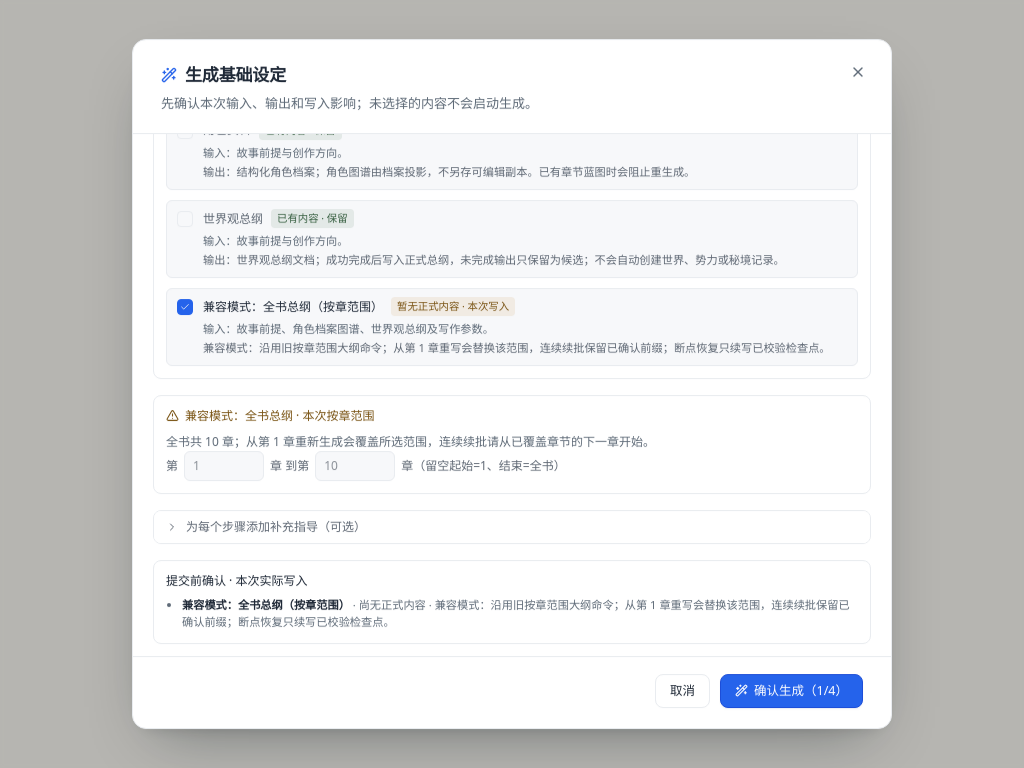
Test: workflow launch dialogs › rejects non-empty invalid synopsis range value -1
(page scrolled)
In the number field named "本次生成范围的起始章": (224, 466) [184,451,264,481], type "-1"
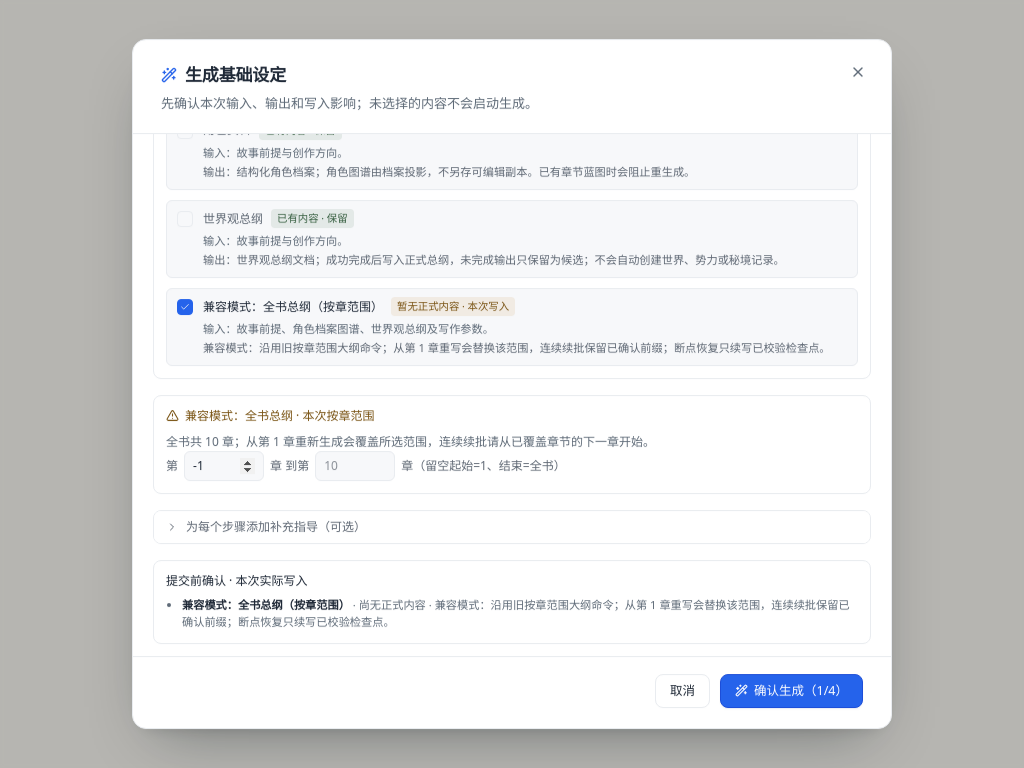
Click the button "确认生成（1/4）": (792, 691) [720,674,863,708]
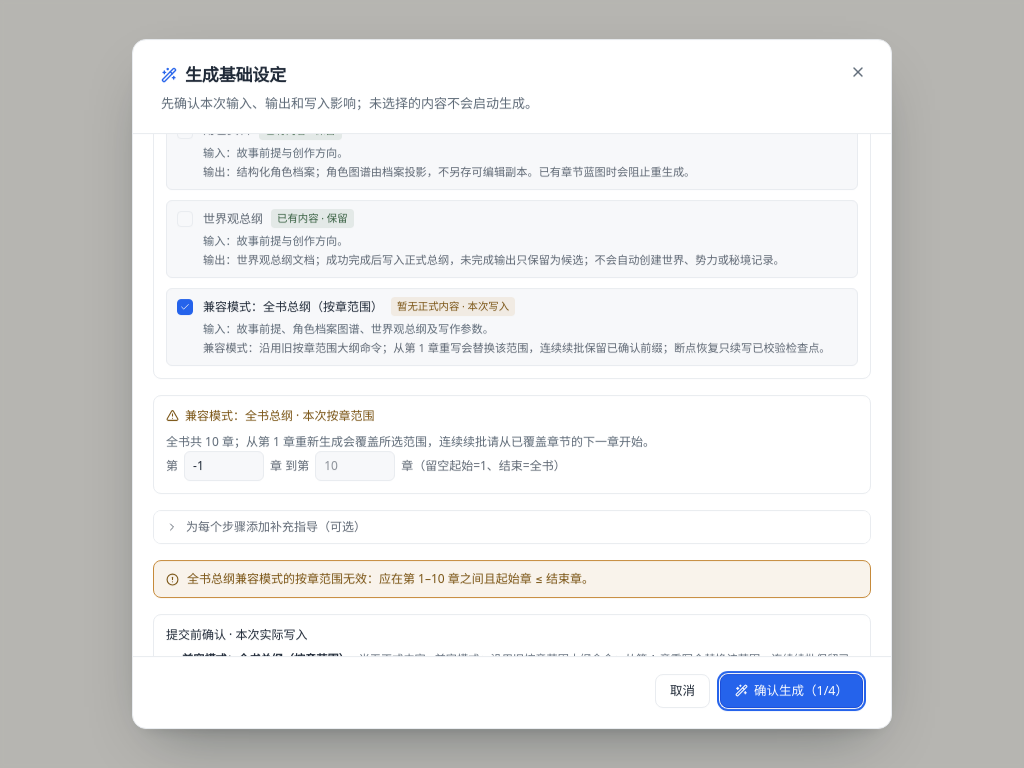
Now the text "全书总纲兼容模式的按章范围无效：应在第 1–10 章之间且起始章 ≤ 结束章。" is shown, box [187,571,594,587]
